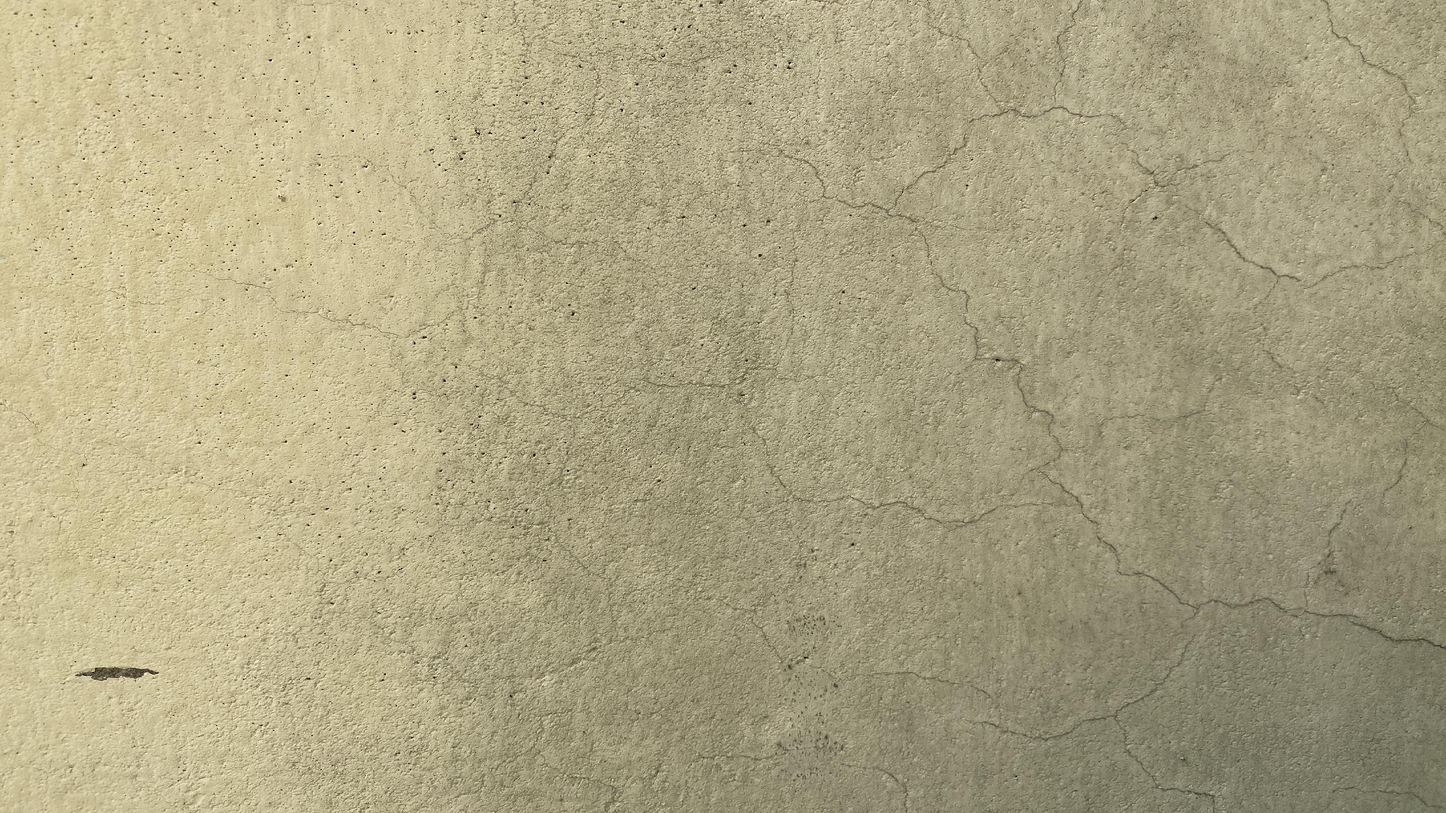crack: (765, 99, 1440, 657)
